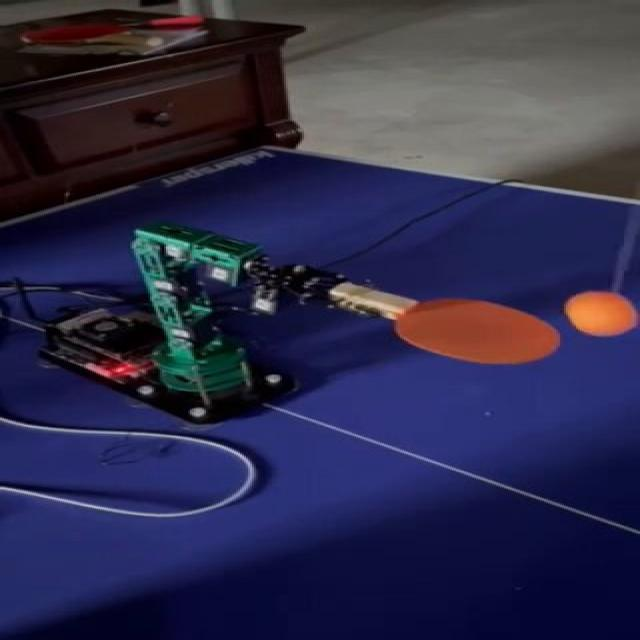ping-pong-ball: (562, 290, 638, 334)
